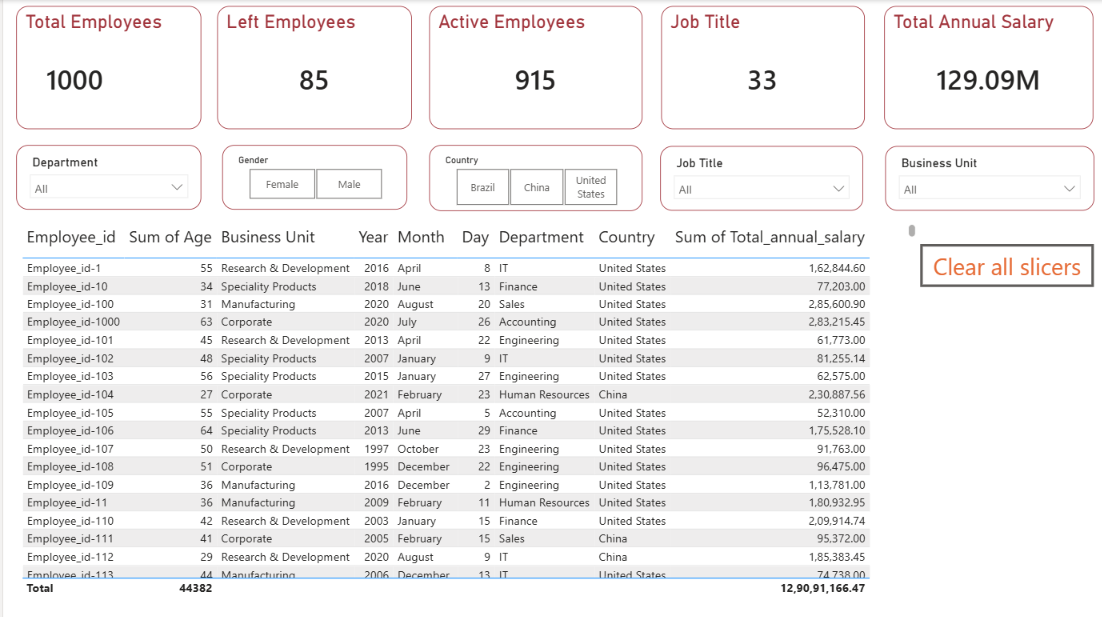

Layout of this report page (visuals, bound fields, positions):
{"tool":"powerbi","page":{"name":"Export Data","canvas":[1280,720],"ordinal":1},"visuals":[{"type":"cardVisual","title":"Total Employees","fields":{"Data":["Count(Employee.Employee_id)"]},"box":[15,6.7,215,143.3],"z":0},{"type":"cardVisual","title":"Left Employees","fields":{"Data":["Sum(Employee.leftData)"]},"box":[248.3,6.7,226.7,143.3],"z":1000},{"type":"cardVisual","title":"Active Employees","fields":{"Data":["Employee.ActiveCount"]},"box":[495,6.7,248.3,143.3],"z":2000},{"type":"cardVisual","title":"Job Title","fields":{"Data":["Count(Employee.Job Title)"]},"box":[765,6.7,236.7,143.3],"z":3000},{"type":"cardVisual","title":"Total Annual Salary","fields":{"Data":["Sum(Employee.Total_annual_salary)"]},"box":[1025,6.7,243.3,143.3],"z":4000},{"type":"slicer","fields":{"Values":["Employee.Gender"]},"box":[255.2,168.8,215.4,75.5],"z":5000},{"type":"slicer","fields":{"Values":["Employee.Department"]},"box":[15.1,168.8,215.4,75.5],"z":6000},{"type":"slicer","fields":{"Values":["Employee.Country"]},"box":[495.4,168.8,248.4,76.8],"z":7000},{"type":"slicer","fields":{"Values":["Employee.Job Title"]},"box":[764.3,170.2,236,75.5],"z":8000},{"type":"slicer","fields":{"Values":["Employee.Business Unit"]},"box":[1025,170.2,242.9,75.5],"z":9000},{"type":"tableEx","fields":{"Values":["Employee.Employee_id","Sum(Employee.Age)","Employee.Business Unit","Employee.Hire Date.Variation.Date Hierarchy.Year","Employee.Hire Date.Variation.Date Hierarchy.Month","Employee.Hire Date.Variation.Date Hierarchy.Day","Employee.Department","Employee.Country","Sum(Employee.Total_annual_salary)"]},"box":[16,256,1050,442],"z":9001},{"type":"actionButton","box":[1066,284,202,50],"z":9002}]}

Visuals, with their boxes in screenshot pixels (x1, y1, x2, y2), scaled from the page's 1280x720 canvas onto the 1102x617 screenshot:
"Total Employees" cardVisual: BBox(13, 6, 198, 129)
"Left Employees" cardVisual: BBox(214, 6, 409, 129)
"Active Employees" cardVisual: BBox(426, 6, 640, 129)
"Job Title" cardVisual: BBox(659, 6, 862, 129)
"Total Annual Salary" cardVisual: BBox(882, 6, 1092, 129)
slicer - Employee.Gender: BBox(220, 145, 405, 209)
slicer - Employee.Department: BBox(13, 145, 198, 209)
slicer - Employee.Country: BBox(427, 145, 640, 210)
slicer - Employee.Job Title: BBox(658, 146, 861, 211)
slicer - Employee.Business Unit: BBox(882, 146, 1092, 211)
tableEx - Employee.Employee_id x Sum(Employee.Age): BBox(14, 219, 918, 598)
actionButton: BBox(918, 243, 1092, 286)
